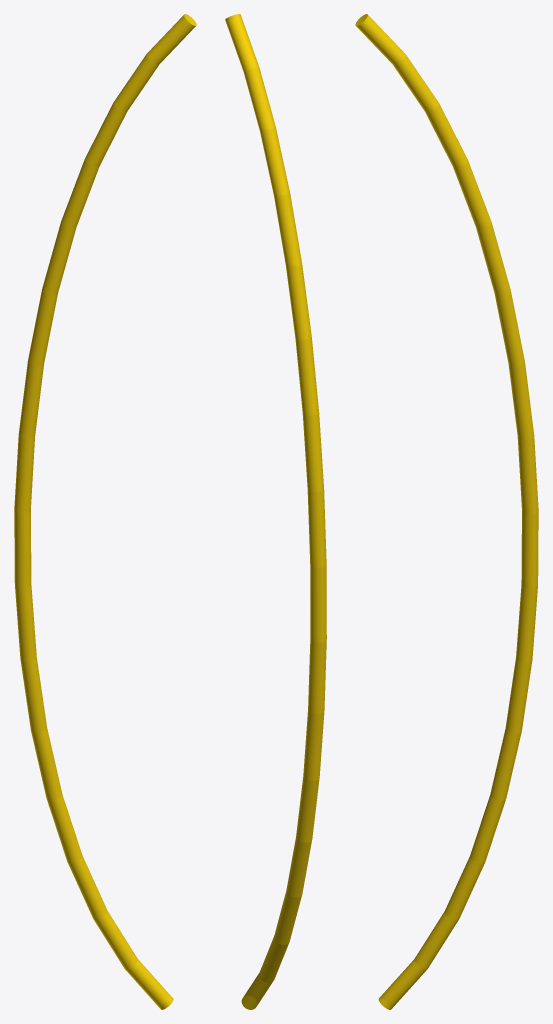
The model's file is Event_420107950_track_5.fbx.
3 views of the same model, side by side, from view 1: azimuth 90°, elevation 25°; view 2: azimuth 210°, elevation 25°; view 3: azimuth 270°, elevation 25° (orthographic).
Parts seen in each view (by area): view 1: Model; view 2: Model; view 3: Model.
Boxes of the visible parts, x1,y1,x2,y2 form: Model: (14, 14, 196, 1009); Model: (225, 14, 326, 1009); Model: (355, 14, 538, 1009).
Bounding box in the file's own units: 0.0539 × 2.64 × 0.4406.
